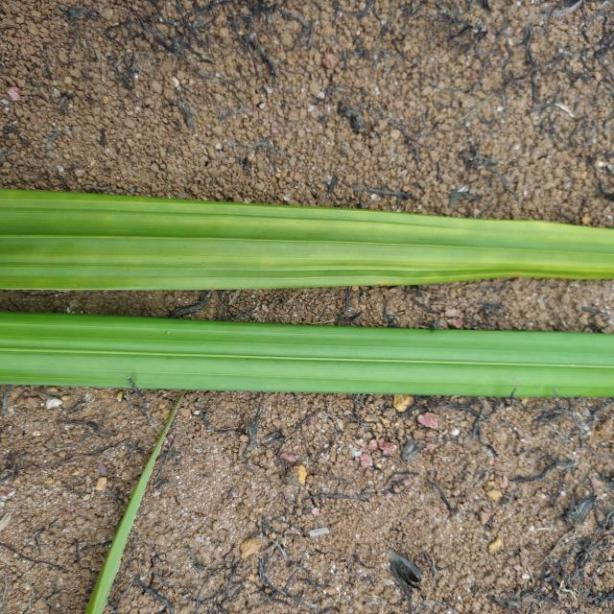nitrogen: (3, 182, 614, 294), (3, 312, 614, 388)
